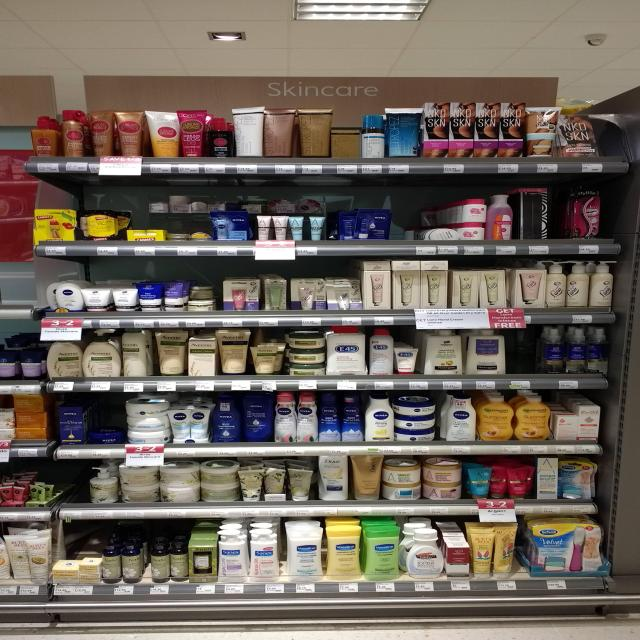empty: (507, 330, 542, 376), (91, 401, 126, 440), (549, 185, 570, 241), (63, 465, 91, 503), (391, 204, 416, 242), (602, 189, 618, 242)
